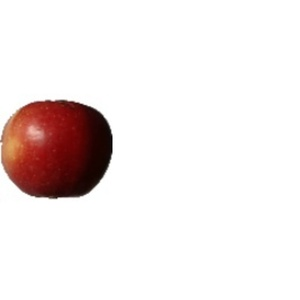maçã braeburn: (1, 91, 117, 205)
